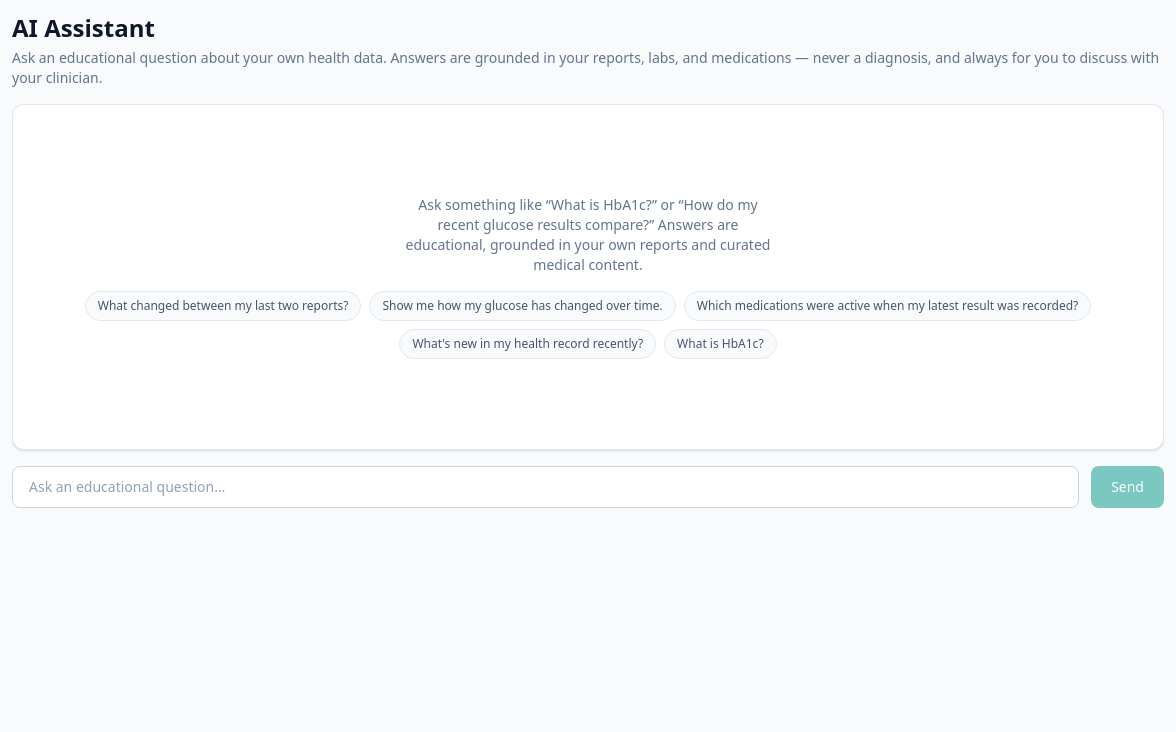
Test: Assistant › sends a message and renders the structured answer
Type "What changed between my last two reports?" into the field with placeholder "Ask an educational question…". click: [546, 487]
box: [12,466,1079,508]
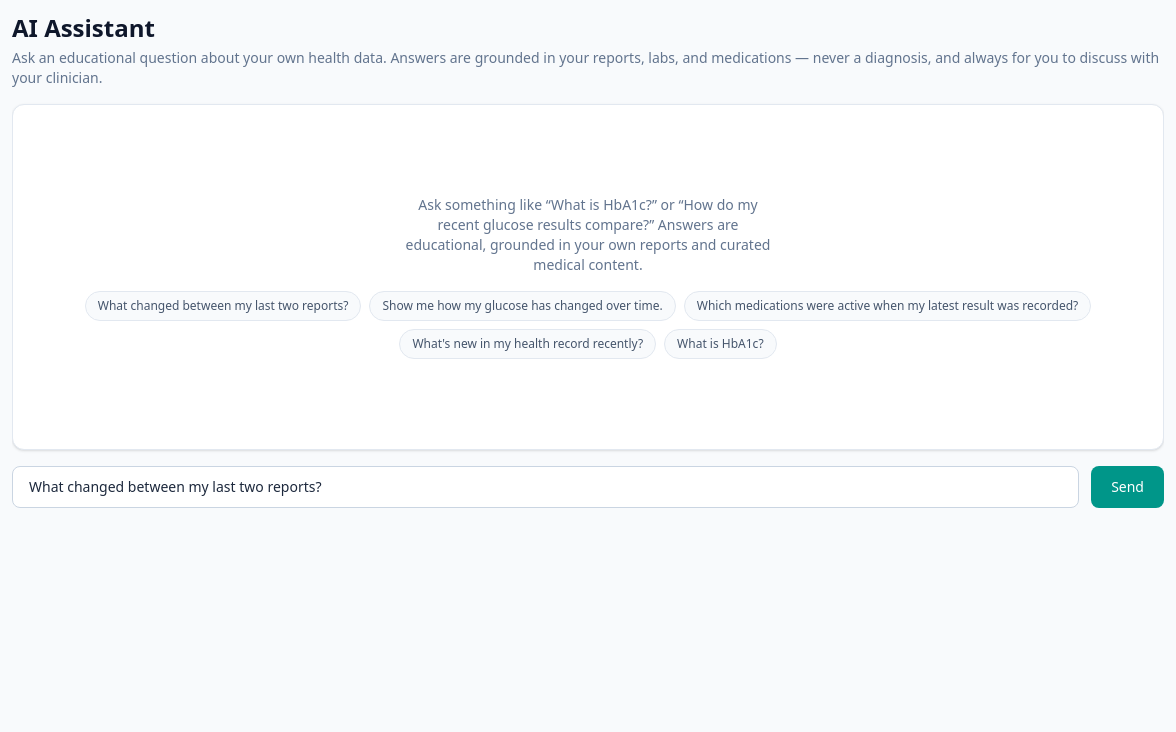
Submit the form, box [12,466,1164,508]
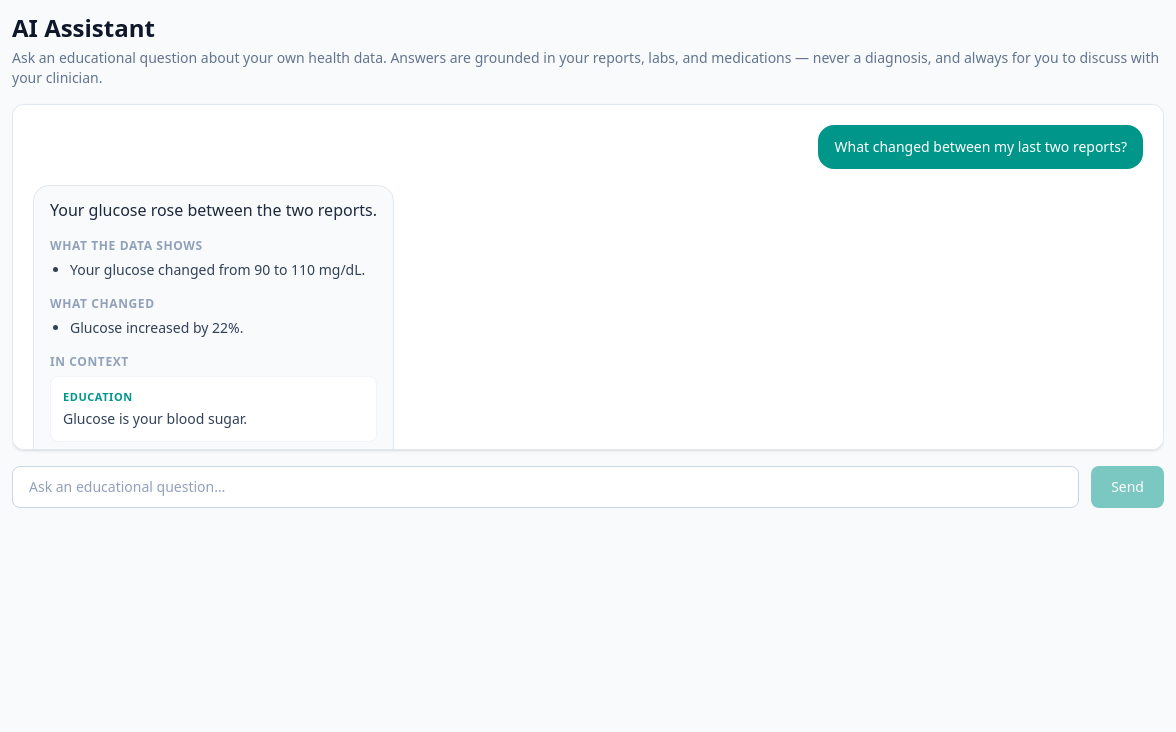
Expected: the text "Your glucose rose between the two reports." is shown, [50,198,377,222]
Expected: the text "Your glucose changed from 90 to 110 mg/dL." is shown, [70,260,377,280]
Expected: the text "Glucose increased by 22%." is shown, [70,318,244,337]
